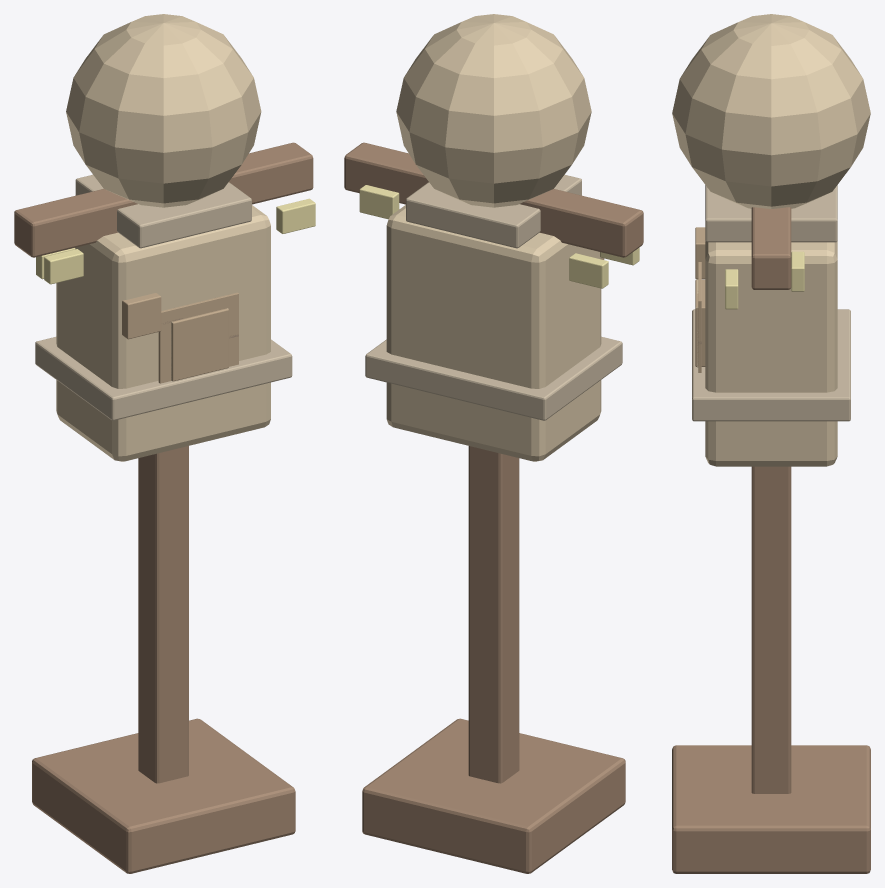
File: practice_dummy_v2.glb
3 renders of one model, left to right at view 1: azimuth 30°, elevation 25°; view 2: azimuth 150°, elevation 25°; view 3: azimuth 270°, elevation 25°, orthographic.
Visible parts, largest first — view 1: Torso, Head, Base, Post, Arms, Rope_Wrap, Rope_Neck, Patch_C, Target_Outer, Patch_L, Hay_1, Hay_0; view 2: Torso, Head, Base, Post, Arms, Rope_Wrap, Rope_Neck, Hay_2, Hay_3; view 3: Head, Base, Torso, Post, Rope_Wrap, Rope_Neck, Arms, Patch_C, Hay_3, Hay_0, Patch_L, Target_Outer.
Part boxes in pixels (x1,y1,x2,y2): Torso: [56, 205, 270, 461]; Head: [66, 14, 261, 207]; Base: [32, 718, 295, 873]; Post: [138, 446, 188, 783]; Arms: [14, 142, 313, 257]; Rope_Wrap: [35, 337, 292, 420]; Rope_Neck: [75, 174, 251, 248]; Patch_C: [171, 308, 228, 381]; Target_Outer: [158, 292, 238, 383]; Patch_L: [122, 293, 161, 339]; Hay_1: [44, 249, 83, 284]; Hay_0: [276, 198, 315, 233]; Torso: [386, 205, 601, 461]; Head: [396, 14, 591, 207]; Base: [362, 718, 625, 873]; Post: [468, 446, 519, 783]; Arms: [344, 142, 643, 257]; Rope_Wrap: [365, 336, 622, 420]; Rope_Neck: [406, 174, 581, 248]; Hay_2: [569, 253, 608, 288]; Hay_3: [359, 185, 399, 219]; Head: [672, 14, 870, 208]; Base: [672, 745, 870, 873]; Torso: [705, 241, 837, 466]; Post: [751, 466, 791, 793]; Rope_Wrap: [692, 309, 850, 421]; Rope_Neck: [705, 185, 837, 242]; Arms: [751, 207, 791, 289]; Patch_C: [695, 279, 705, 366]; Hay_3: [791, 251, 804, 291]; Hay_0: [725, 269, 738, 309]; Patch_L: [695, 227, 705, 279]; Target_Outer: [698, 262, 701, 372].
Bounding box in the file's own units: 0.5 × 1.35 × 0.3.
